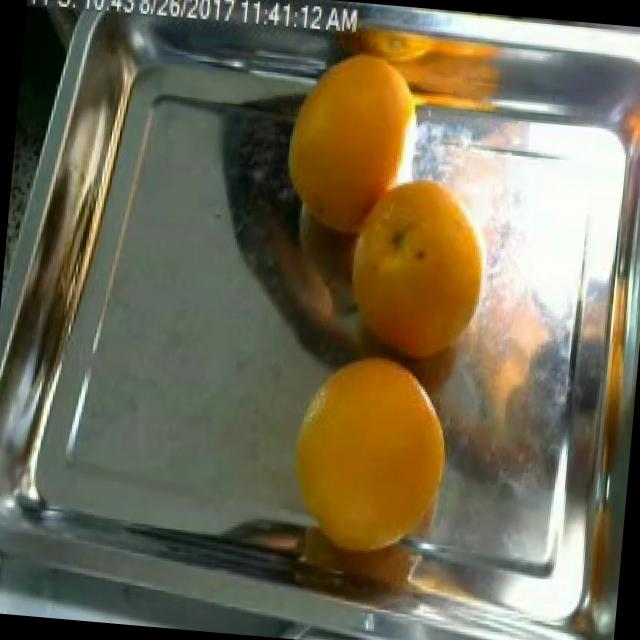Fruit: (312, 142, 507, 377), (260, 28, 430, 258)
